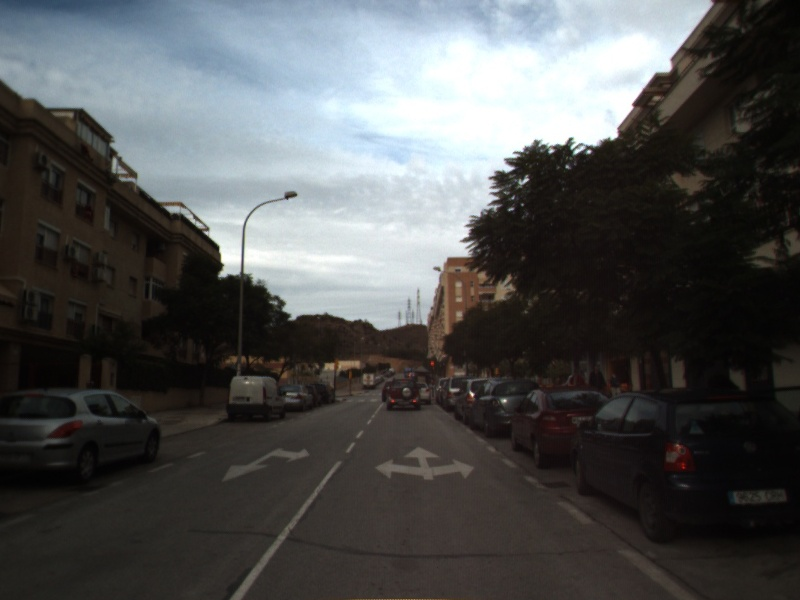STRAIGHT_LEFT_RIGHT: (373, 444, 476, 482)
